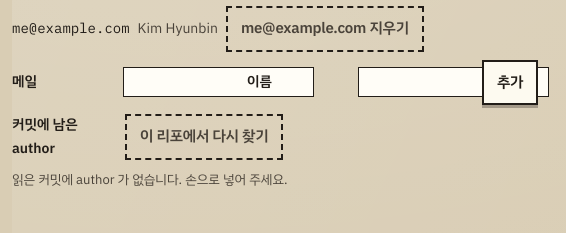
Scenario: IdentityPanel › 이미 있는 메일은 두 번 넣지 않는다 — 대소문자가 달라도 같은 사람이다
Type "ME@Example.com" into the field labelled "메일" at (218, 82), box [123,67,314,97]
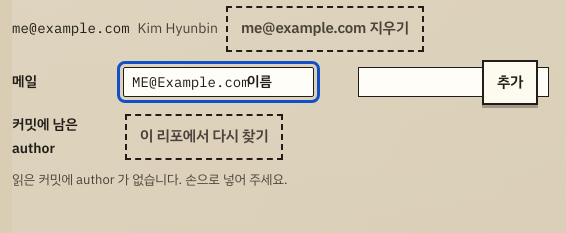
Click the button "추가" at (510, 82), box [482,60,538,105]
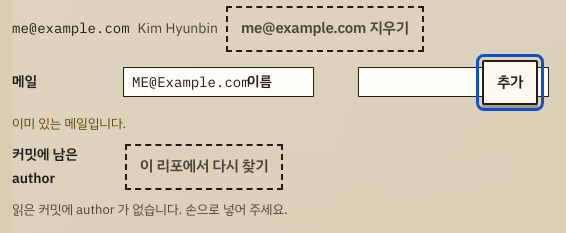
Expected: the text "이미 있는 메일입니다." is shown, [12,114,126,133]
